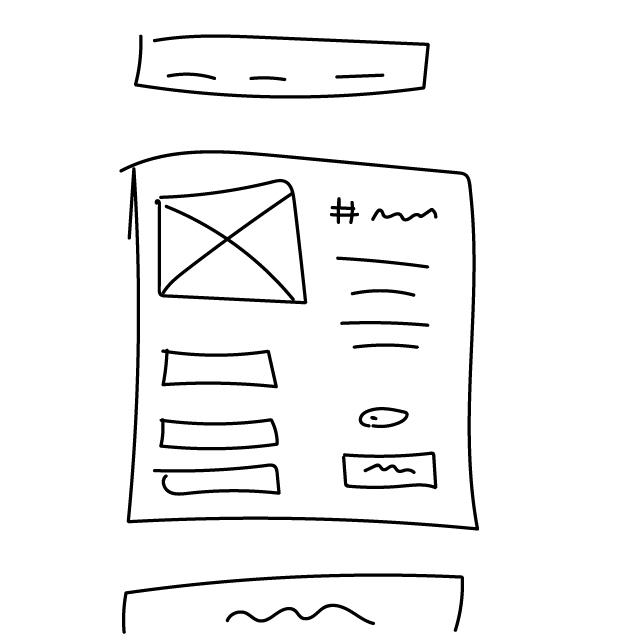button: (340, 445, 446, 497)
checkbox: (360, 404, 412, 431)
container: (109, 138, 503, 541)
footer: (116, 566, 474, 638)
frame: (151, 177, 317, 312)
heading: (326, 194, 454, 236)
input: (159, 346, 286, 395), (154, 415, 284, 455), (153, 462, 286, 501)
nav: (130, 30, 442, 107)
text: (330, 253, 447, 364)
